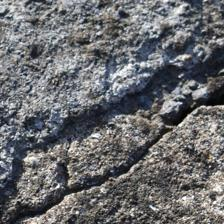Crack: (55, 73, 167, 146), (147, 140, 224, 224)
